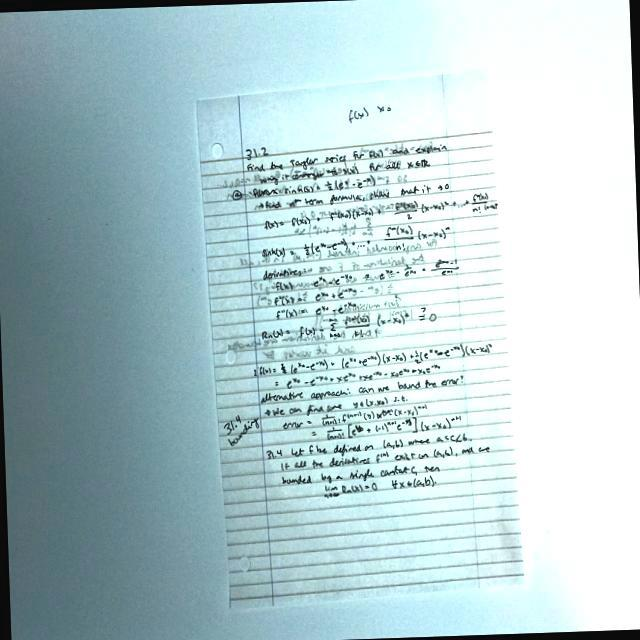paper: (183, 36, 548, 610)
